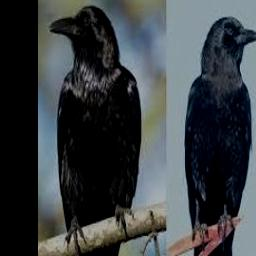Crow: (48, 5, 142, 256), (184, 15, 256, 256)
